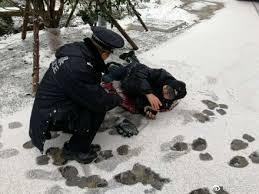Fall-Detected: (98, 42, 190, 114)
